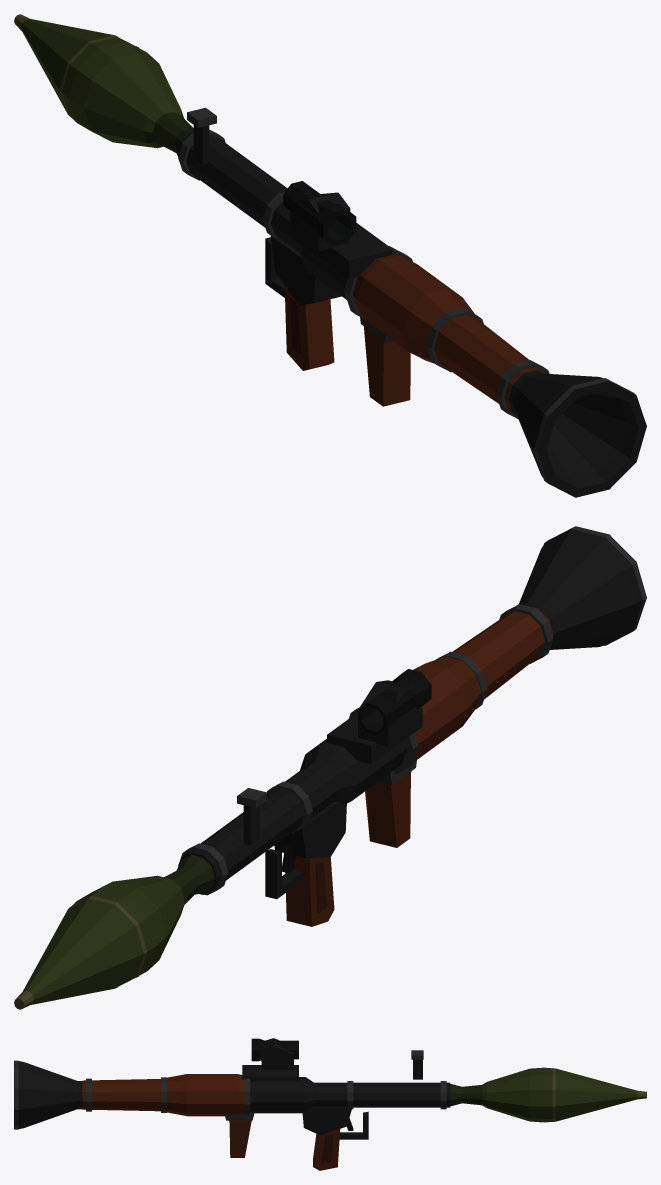
Rendered from RPG.obj.
The picture shows the model from 3 angles, top to bottom: view 1: azimuth 30°, elevation 25°; view 2: azimuth 150°, elevation 25°; view 3: azimuth 270°, elevation 25°; orthographic projection. The views are drawn at different scales.
Visible parts, largest first — view 1: RPG, RPG_details, RPG_rocket, RPG_sights; view 2: RPG, RPG_details, RPG_rocket, RPG_sights; view 3: RPG, RPG_rocket, RPG_details, RPG_sights.
Part boxes in pixels (x1,y1,x2,y2): RPG: (177, 129, 646, 497); RPG_details: (265, 181, 410, 406); RPG_rocket: (14, 14, 193, 154); RPG_sights: (187, 107, 216, 164); RPG: (178, 526, 646, 895); RPG_details: (265, 669, 431, 926); RPG_rocket: (14, 855, 214, 1009); RPG_sights: (237, 788, 266, 844); RPG: (14, 1060, 450, 1129); RPG_rocket: (450, 1067, 646, 1122); RPG_details: (225, 1038, 368, 1170); RPG_sights: (411, 1050, 423, 1079).
Size of the model in its own units: 2.09 by 3.87 by 19.
